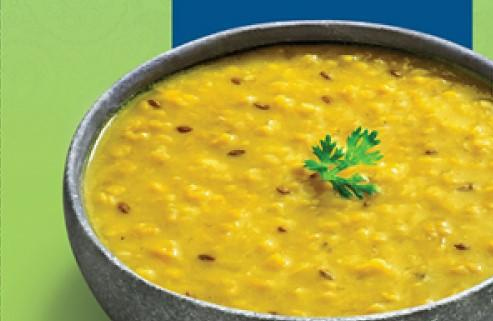Dal: (82, 42, 493, 316)
